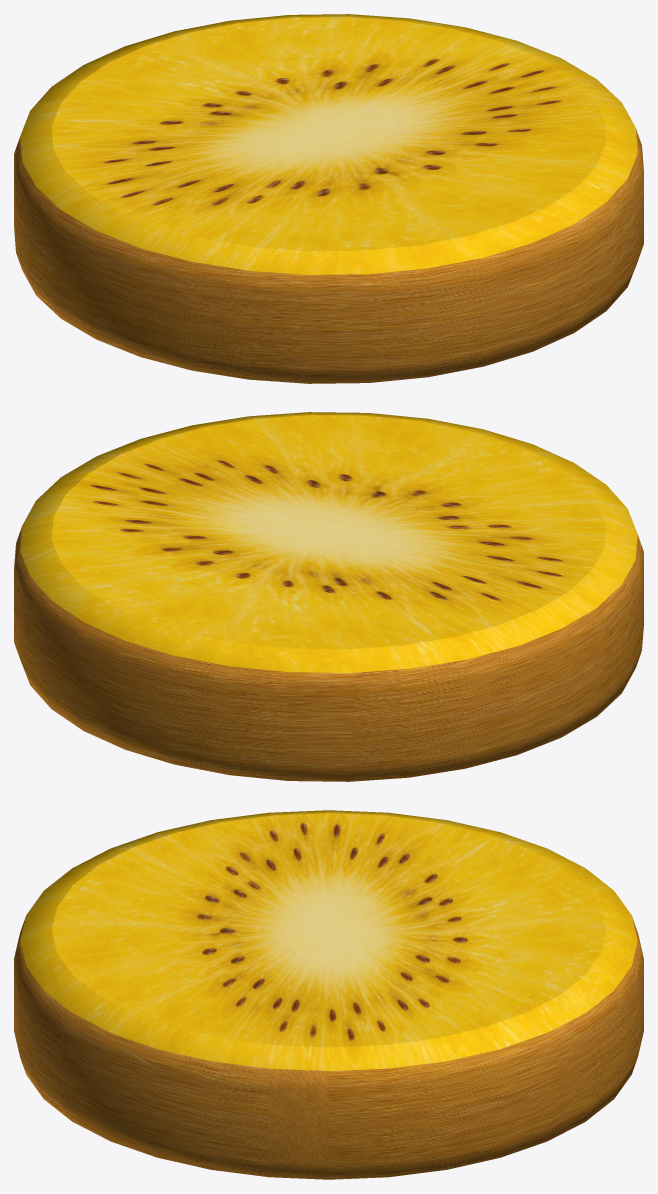
File: golden_kiwi_slice-DnsQmIdY.glb
3 renders of one model, top to bottom at view 1: azimuth 30°, elevation 25°; view 2: azimuth 150°, elevation 25°; view 3: azimuth 270°, elevation 25°, orthographic.
Parts seen in each view (by area): view 1: FLC_golden_kiwi_slice; view 2: FLC_golden_kiwi_slice; view 3: FLC_golden_kiwi_slice.
Boxes of the visible parts, bbox=[...] form: FLC_golden_kiwi_slice: bbox=[14, 14, 643, 383]; FLC_golden_kiwi_slice: bbox=[14, 412, 643, 781]; FLC_golden_kiwi_slice: bbox=[14, 810, 643, 1179].
Size of the model in its own units: 1.06 by 0.24 by 1.06.
1 material, 1 textured.
